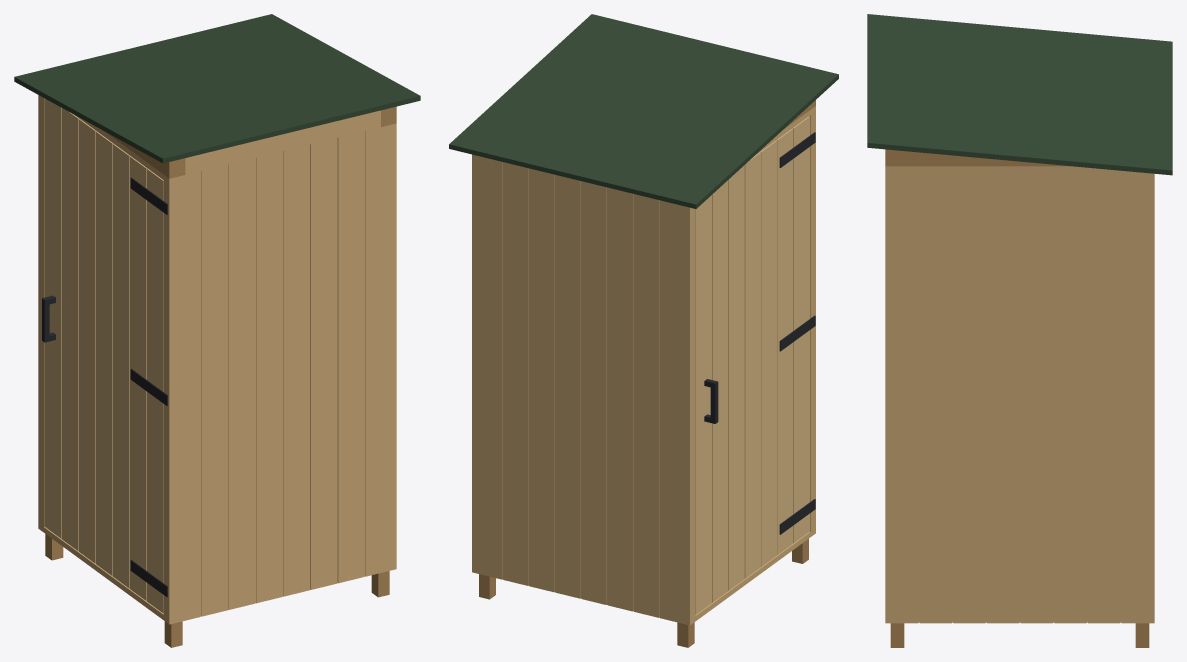
The model's file is meuble-balais.glb.
The picture shows the model from 3 angles, left to right: view 1: azimuth 30°, elevation 25°; view 2: azimuth 150°, elevation 25°; view 3: azimuth 270°, elevation 25°; orthographic projection. The views are drawn at different scales.
Visible parts, largest first — view 1: Bardage_Avant, Porte_Vantail, Toit, Porte_Lattes, Bandeau_Avant, Bardage_Droit, Porte_Pentures, Montants, Chevrons; view 2: Bardage_Arriere, Porte_Vantail, Toit, Porte_Lattes, Bardage_Droit, Porte_Pentures, Montants; view 3: Bardage_Droit, Toit, Chevrons, Montants.
Part boxes in pixels (bbox=[...]): Bardage_Avant: bbox=[174, 124, 392, 623]; Porte_Vantail: bbox=[44, 98, 163, 613]; Toit: bbox=[14, 14, 420, 163]; Porte_Lattes: bbox=[38, 95, 173, 624]; Bandeau_Avant: bbox=[185, 110, 380, 174]; Bardage_Droit: bbox=[392, 123, 396, 569]; Porte_Pentures: bbox=[130, 177, 167, 597]; Montants: bbox=[45, 534, 389, 647]; Chevrons: bbox=[106, 106, 396, 178]; Bardage_Arriere: bbox=[476, 155, 685, 624]; Porte_Vantail: bbox=[695, 116, 809, 614]; Toit: bbox=[449, 14, 838, 208]; Porte_Lattes: bbox=[685, 106, 815, 625]; Bardage_Droit: bbox=[472, 154, 476, 573]; Porte_Pentures: bbox=[779, 132, 815, 534]; Montants: bbox=[479, 539, 808, 647]; Bardage_Droit: bbox=[885, 166, 1154, 623]; Toit: bbox=[867, 14, 1172, 175]; Chevrons: bbox=[885, 149, 1069, 166]; Montants: bbox=[890, 623, 1149, 647].
Bounding box in the file's own units: 1.02 × 1.9 × 1.02.
